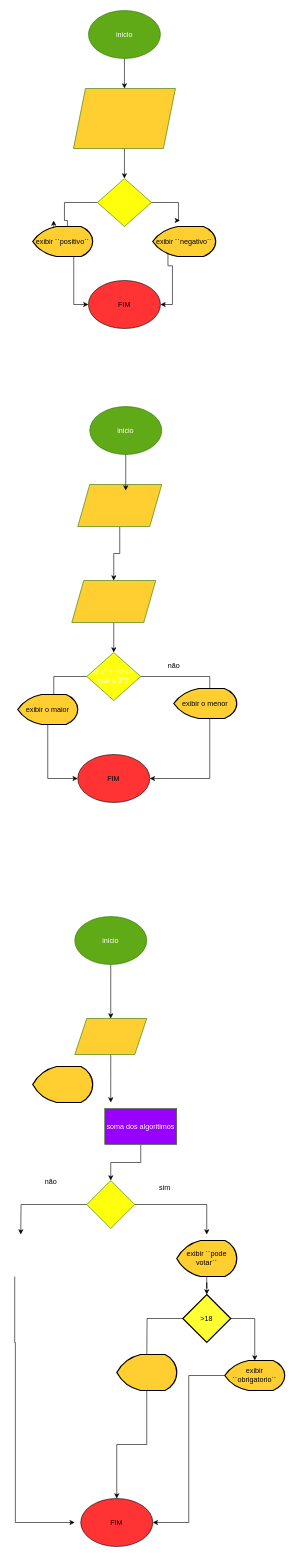
Image size: 296x1557. Some labels were removed from this diagram. The shapes that lost their labels are listed below. From the top down, each one's centre as x and y in pixels, then its label:
pixel 124 118: coletar o numero de usuario
pixel 124 202: e maior que 0?
pixel 119 505: solicitar o 1° numero
pixel 113 601: solicitar o 2° numero
pixel 110 1036: receber o algoritimo
pixel 62 1084: exibir ´´não pode votar``
pixel 110 1204: => que 16?
pixel 146 1372: exibir ``opcional``
